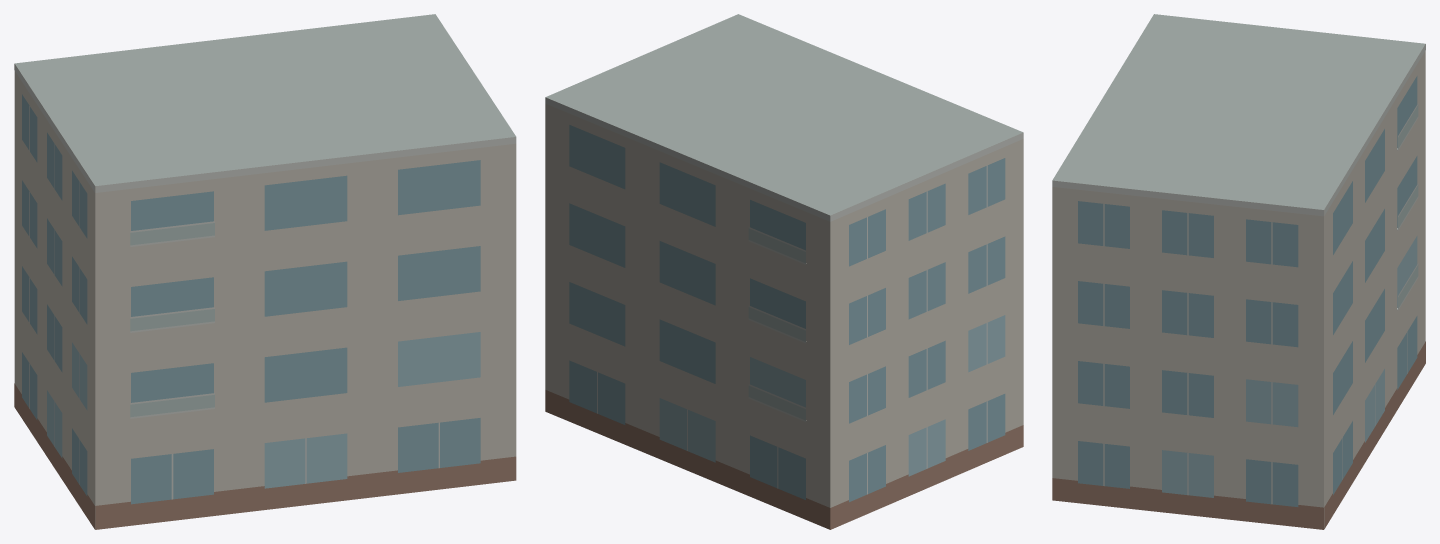
File: residential-d95c86c8-0308-4a2a-b56a-6d4e91c32ba5.glb
The picture shows the model from 3 angles, left to right: view 1: azimuth 30°, elevation 25°; view 2: azimuth 150°, elevation 25°; view 3: azimuth 270°, elevation 25°; orthographic projection. The views are drawn at different scales.
Parts seen in each view (by area): view 1: residential-d95c86c8-0308-4a2a-b56a-6d4e91c32ba5.tmp; view 2: residential-d95c86c8-0308-4a2a-b56a-6d4e91c32ba5.tmp; view 3: residential-d95c86c8-0308-4a2a-b56a-6d4e91c32ba5.tmp.
Boxes of the visible parts, x1=… form: residential-d95c86c8-0308-4a2a-b56a-6d4e91c32ba5.tmp: x1=14, y1=14, x2=516, y2=529; residential-d95c86c8-0308-4a2a-b56a-6d4e91c32ba5.tmp: x1=545, y1=14, x2=1023, y2=529; residential-d95c86c8-0308-4a2a-b56a-6d4e91c32ba5.tmp: x1=1052, y1=14, x2=1425, y2=529.
Size of the model in its own units: 16.05 by 12.2 by 12.92.
